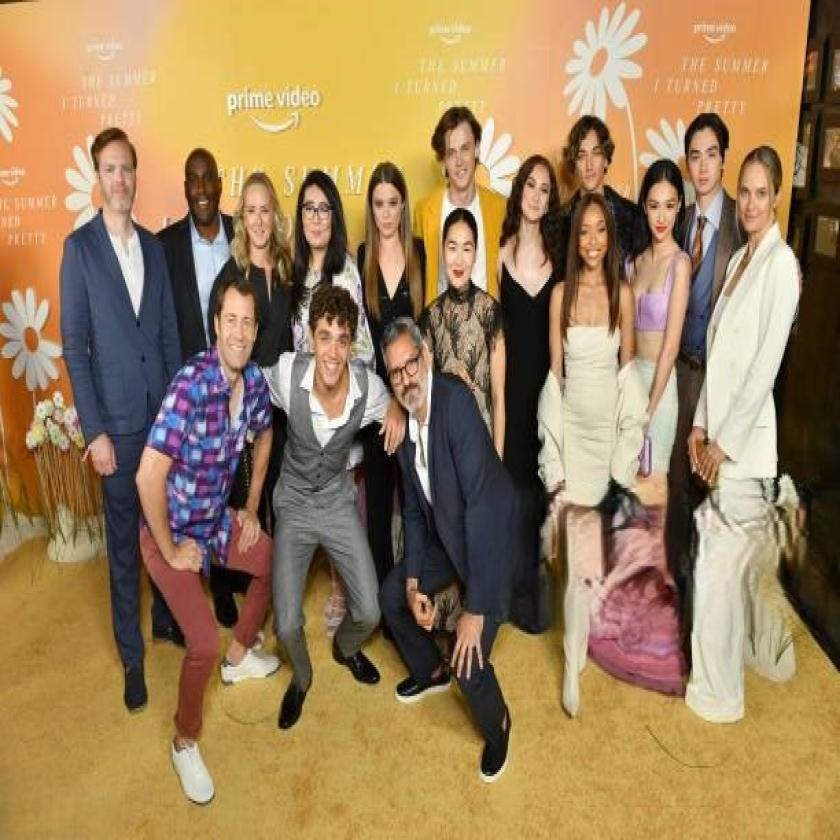Sin_casco: (84, 118, 148, 235), (302, 285, 364, 405), (207, 271, 263, 403), (378, 314, 440, 424), (430, 101, 488, 208), (636, 153, 691, 264), (733, 140, 789, 238), (237, 168, 289, 271), (180, 144, 232, 245), (510, 151, 561, 250), (296, 164, 347, 260), (439, 204, 486, 304), (684, 106, 729, 208), (364, 158, 408, 261), (570, 110, 616, 206), (570, 194, 618, 278)
